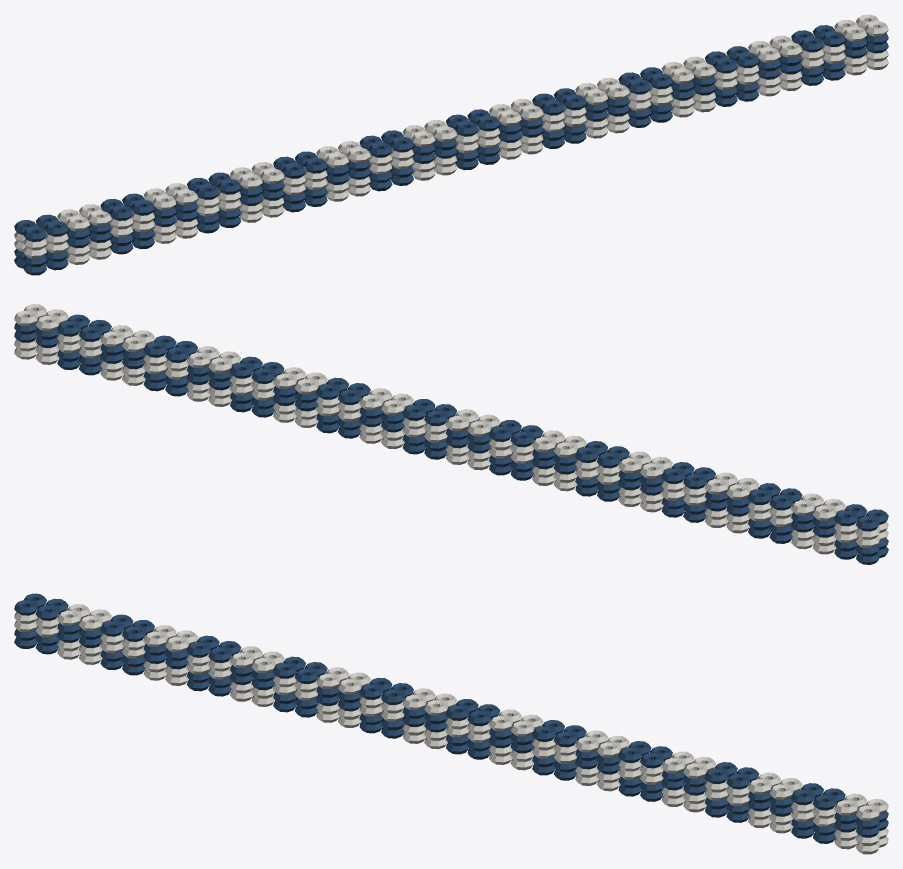
Rendered from run_tire_navy_2l_25m.glb.
The picture shows the model from 3 angles, top to bottom: view 1: azimuth 30°, elevation 25°; view 2: azimuth 150°, elevation 25°; view 3: azimuth 330°, elevation 25°; orthographic projection.
Visible parts, largest first — view 1: run_tire_navy_2l_25m; view 2: run_tire_navy_2l_25m; view 3: run_tire_navy_2l_25m.
Part boxes in pixels (x1,y1,x2,y2): run_tire_navy_2l_25m: (14, 14, 888, 275); run_tire_navy_2l_25m: (14, 304, 888, 564); run_tire_navy_2l_25m: (14, 593, 888, 854).
Size of the model in its own units: 24.8 by 1.14 by 1.07.
